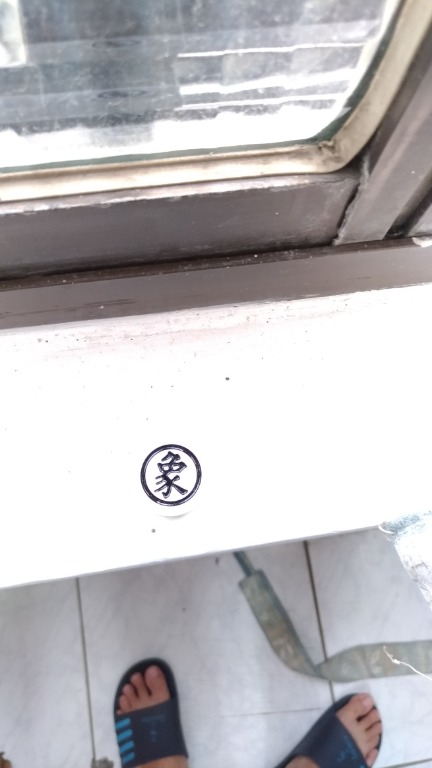b-elephant: (121, 434, 238, 523)
